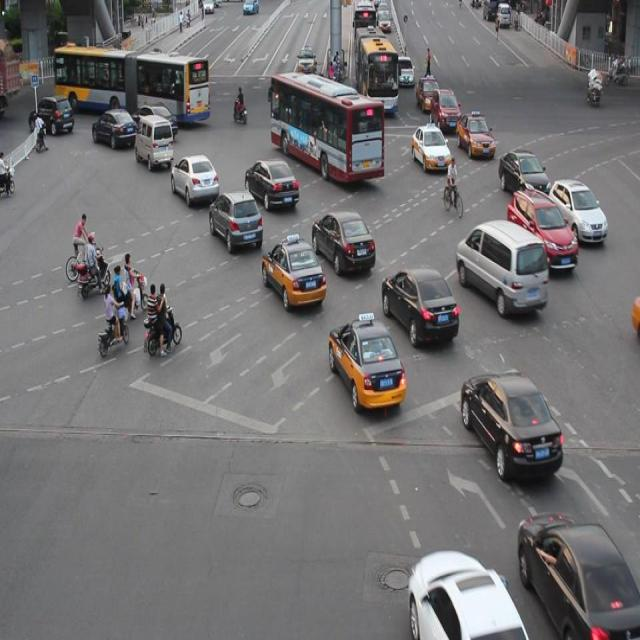car: (514, 511, 640, 640), (459, 368, 563, 478), (405, 547, 527, 640), (328, 316, 405, 409), (380, 264, 459, 345), (505, 187, 577, 270), (262, 236, 326, 309), (312, 208, 376, 273), (547, 177, 606, 244), (208, 190, 262, 251), (245, 156, 299, 209), (498, 148, 549, 200), (170, 153, 220, 205), (411, 124, 451, 174), (92, 107, 137, 149), (456, 112, 494, 159), (134, 103, 178, 139), (429, 87, 460, 133)
truck: (454, 218, 546, 312), (135, 114, 174, 168)
van: (268, 74, 384, 184), (54, 48, 210, 123)
